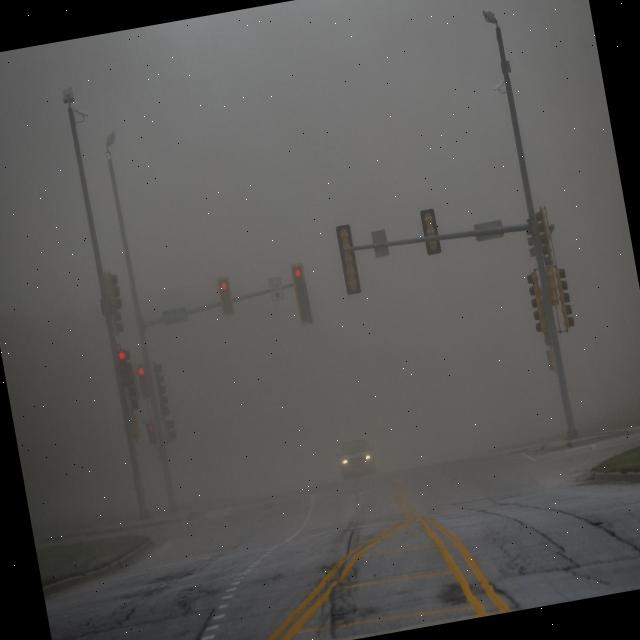car: (334, 434, 378, 476)
